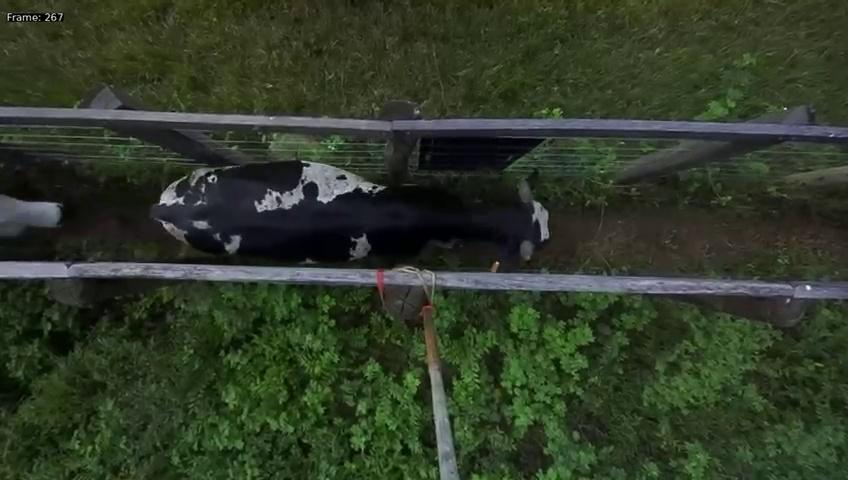cattle: (141, 148, 554, 278)
